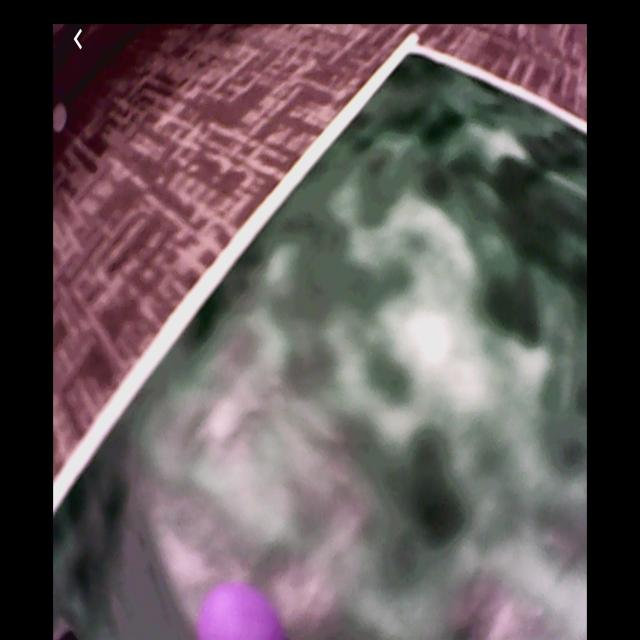ball: (195, 586, 288, 640)
